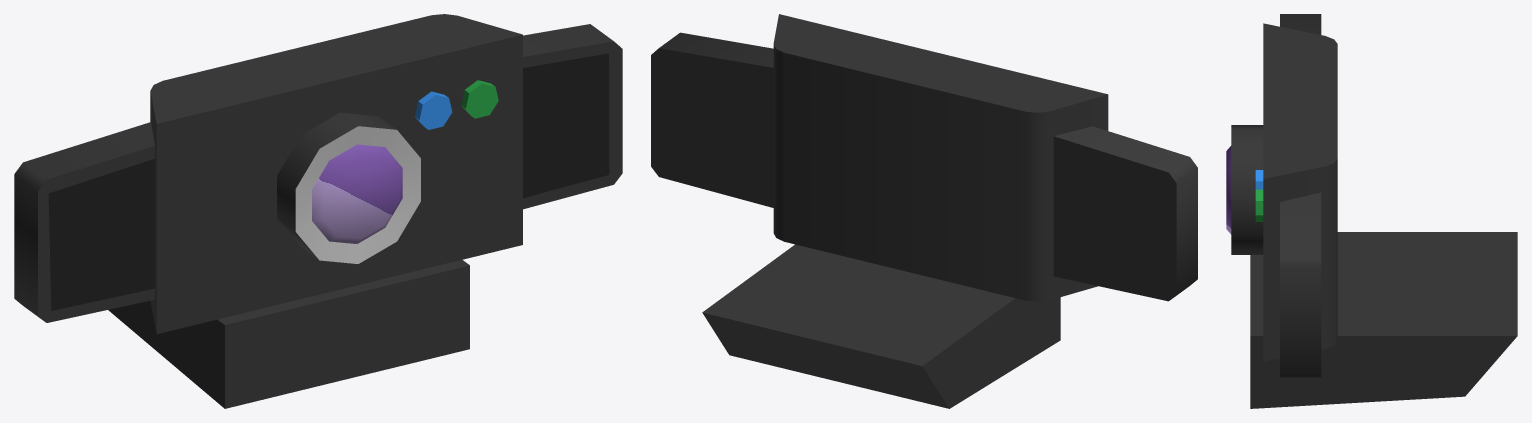
Rendered from webcam.glb.
3 renders of one model, left to right at view 1: azimuth 30°, elevation 25°; view 2: azimuth 150°, elevation 25°; view 3: azimuth 270°, elevation 25°, orthographic. The views are drawn at different scales.
Visible parts, largest first — view 1: Web Cam 1; view 2: Web Cam 1; view 3: Web Cam 1.
Part boxes in pixels (x1,y1,x2,y2): Web Cam 1: (14, 14, 622, 408); Web Cam 1: (651, 14, 1197, 408); Web Cam 1: (1226, 14, 1517, 408).
Size of the model in its own units: 0.1024 by 0.0492 by 0.0508.
Materials: 1 (1 with a texture image).
